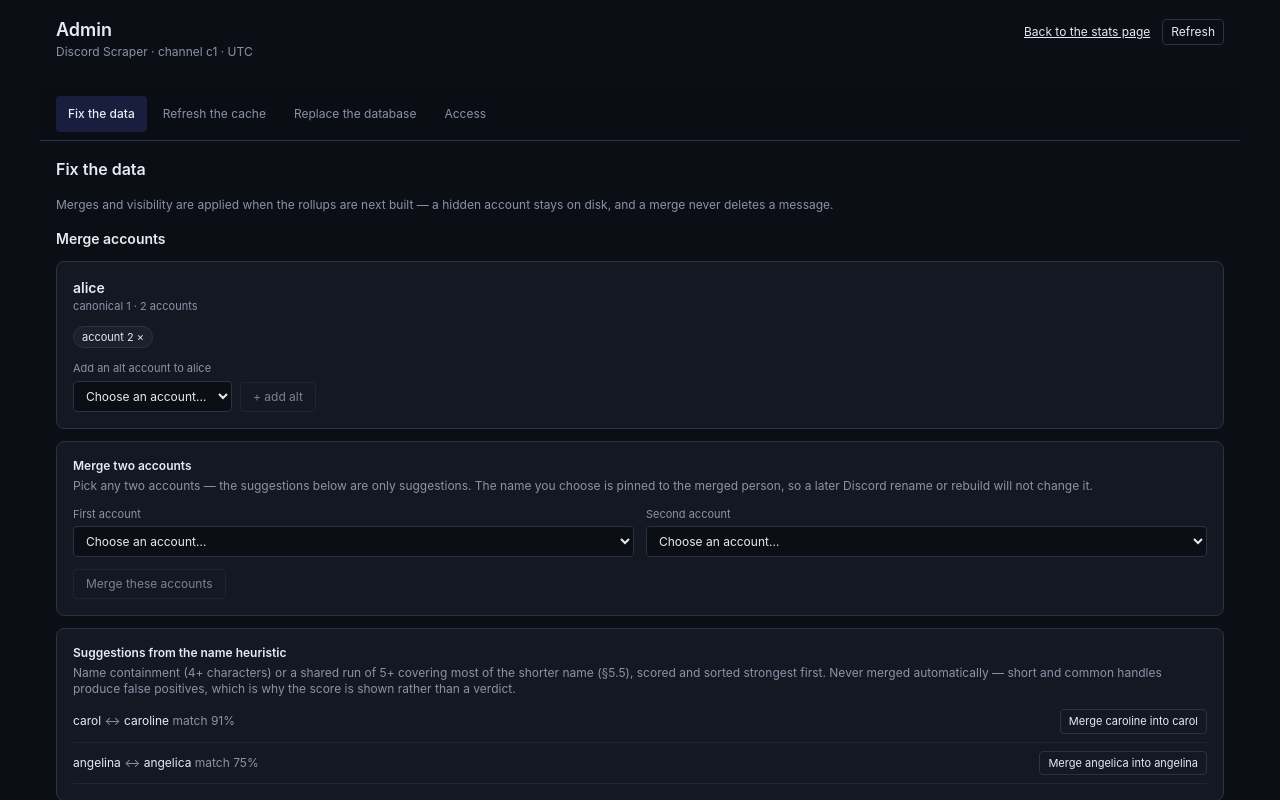
Test: <Admin> › says so and keeps the warning when the include write fails
The width and height of the screenshot is (1280, 800).
Click the button "Fix the data": (101, 114) [56,96,147,132]
(page scrolled)
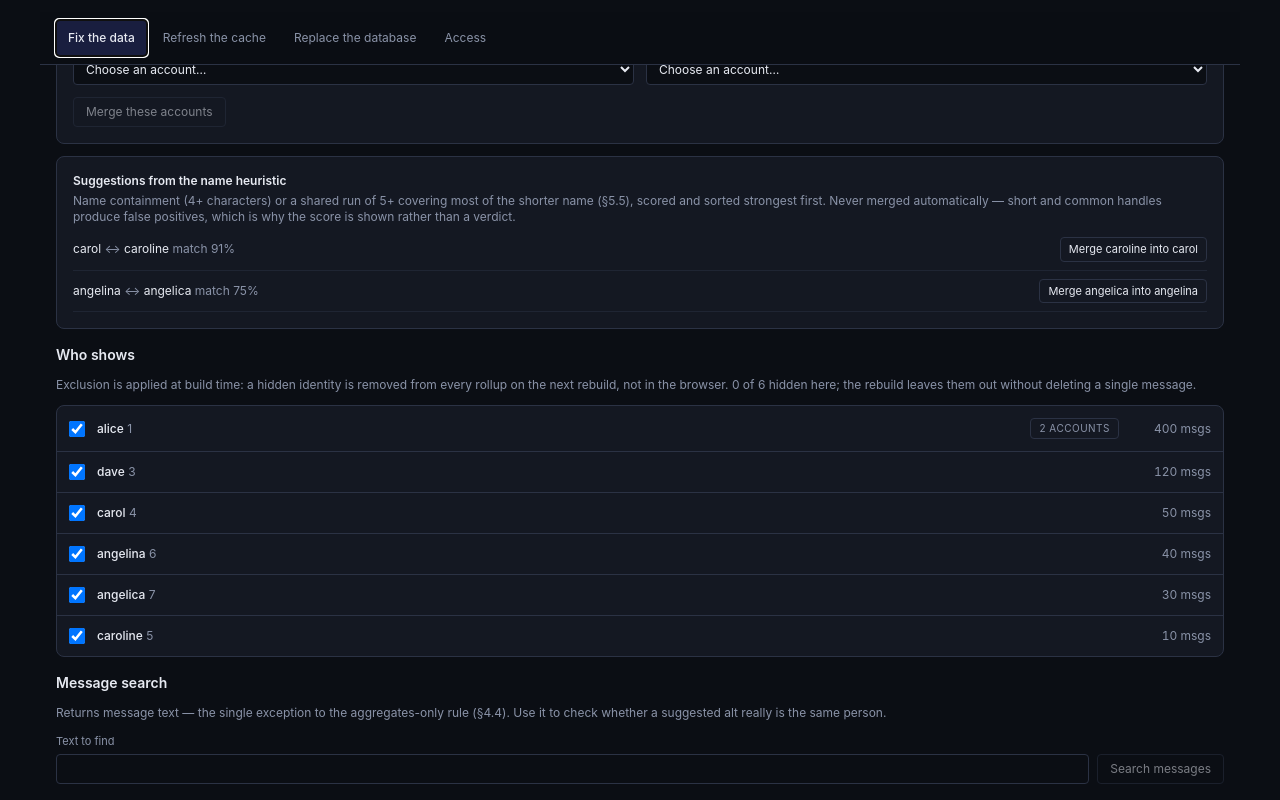
Click the checkbox labelled "alice 1": (77, 429) [69,421,85,437]
(page scrolled)
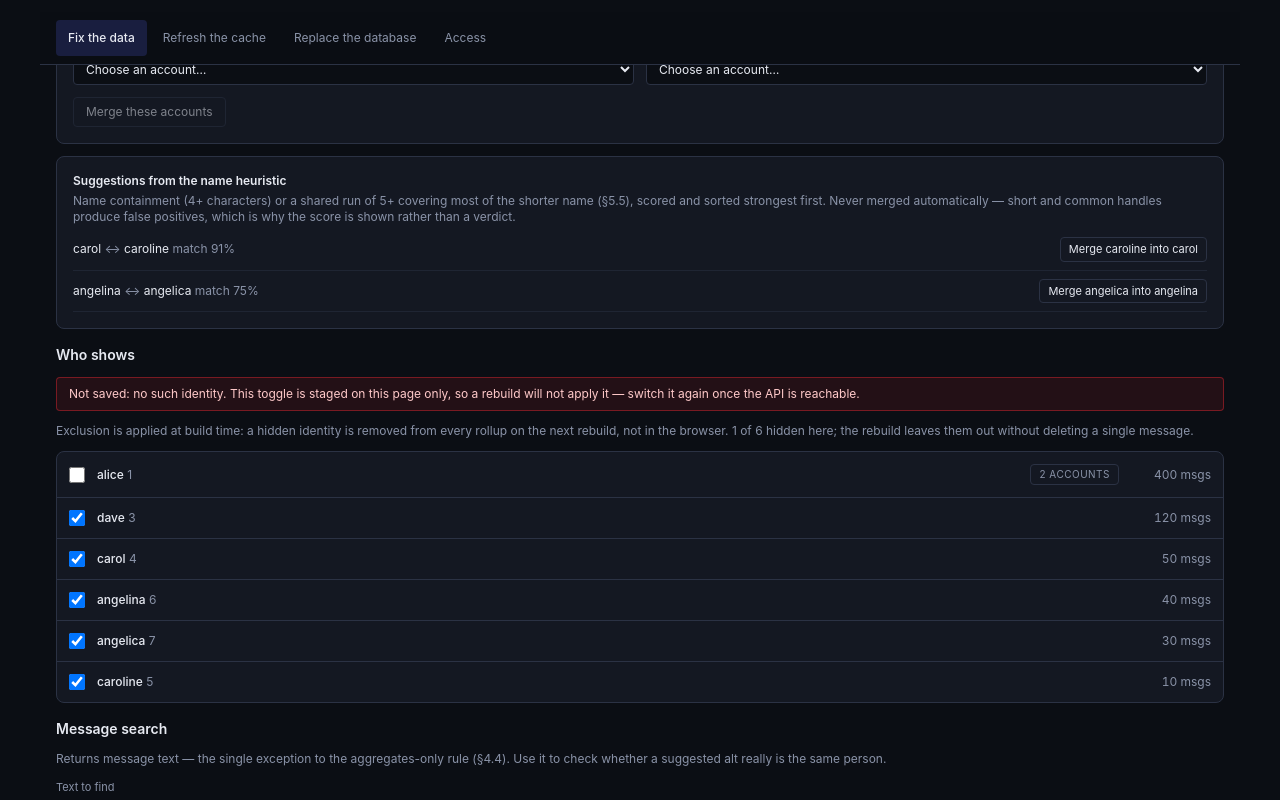
Expected: the message shows "Not saved: no such identity", [56,377,1224,411]
